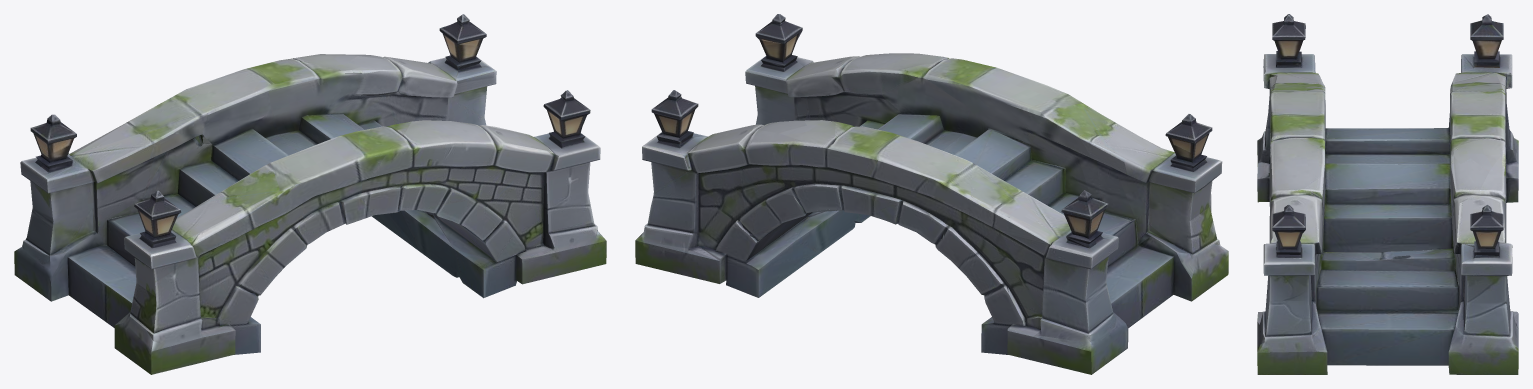
Rendered from bridge.glb.
3 renders of one model, left to right at view 1: azimuth 30°, elevation 25°; view 2: azimuth 150°, elevation 25°; view 3: azimuth 270°, elevation 25°, orthographic. The views are drawn at different scales.
Visible parts, largest first — view 1: bridge; view 2: bridge; view 3: bridge.
Boxes of the visible parts, x1,y1,x2,y2 form: bridge: (14,14,606,374); bridge: (635,14,1228,374); bridge: (1257,14,1518,374).
Size of the model in its own units: 8.05 by 3 by 4.2.
Materials: 1 (1 with a texture image).
